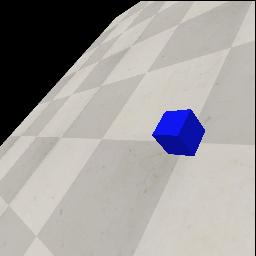box: (152, 109, 205, 156)
